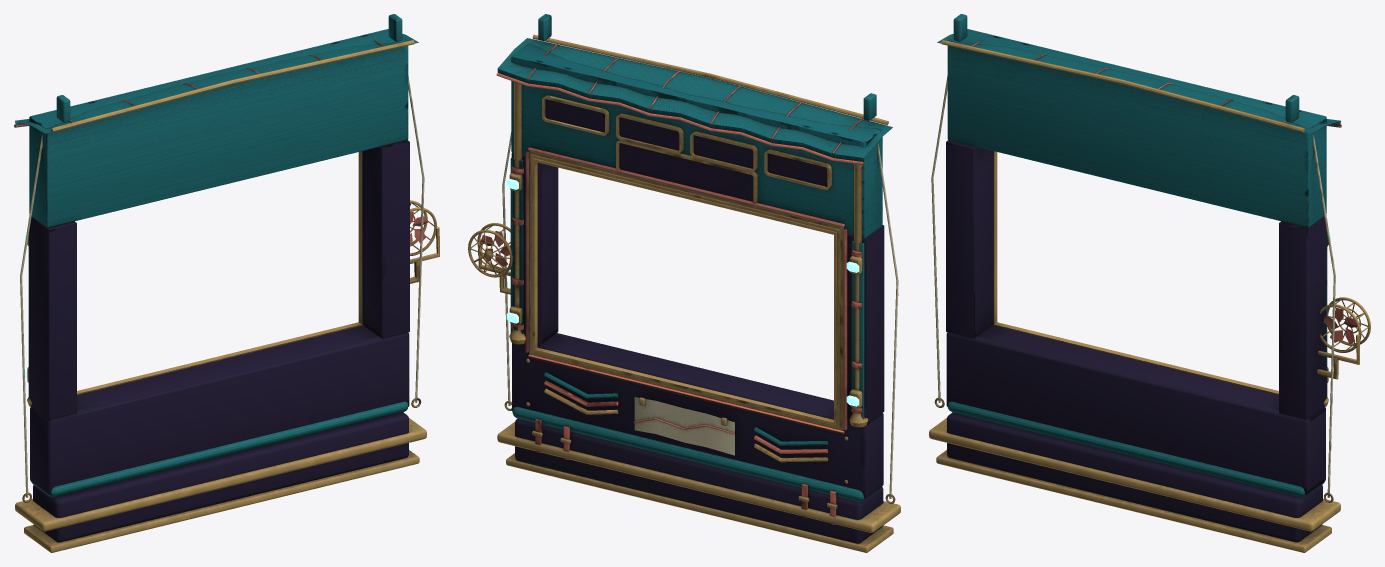
3 views of the same model, side by side, from view 1: azimuth 30°, elevation 25°; view 2: azimuth 150°, elevation 25°; view 3: azimuth 330°, elevation 25° (orthographic). The views are drawn at different scales.
Parts seen in each view (by area): view 1: Violet_enamel_and_blank_displays, Teal_woven_shelter_fabric, Brushed_expedition_brass, Warm_route_paper; view 2: Violet_enamel_and_blank_displays, Teal_woven_shelter_fabric, Brushed_expedition_brass, Coral_woven_binding, Warm_route_paper; view 3: Violet_enamel_and_blank_displays, Teal_woven_shelter_fabric, Brushed_expedition_brass, Warm_route_paper, Coral_woven_binding.
Boxes of the visible parts, x1,y1,x2,y2 form: Violet_enamel_and_blank_displays: (29, 140, 409, 542); Teal_woven_shelter_fabric: (15, 14, 418, 497); Brushed_expedition_brass: (15, 40, 439, 552); Warm_route_paper: (20, 76, 424, 497); Violet_enamel_and_blank_displays: (511, 99, 884, 543); Teal_woven_shelter_fabric: (497, 14, 892, 501); Brushed_expedition_brass: (468, 34, 900, 552); Coral_woven_binding: (481, 44, 864, 524); Warm_route_paper: (502, 132, 898, 498); Violet_enamel_and_blank_displays: (946, 140, 1326, 542); Teal_woven_shelter_fabric: (937, 14, 1340, 497); Brushed_expedition_brass: (929, 40, 1370, 552); Warm_route_paper: (931, 76, 1335, 497); Coral_woven_binding: (971, 40, 1357, 343).
Bounding box in the file's own units: 9.52 × 9.6 × 1.35.
Materials: 6 (5 with a texture image).
